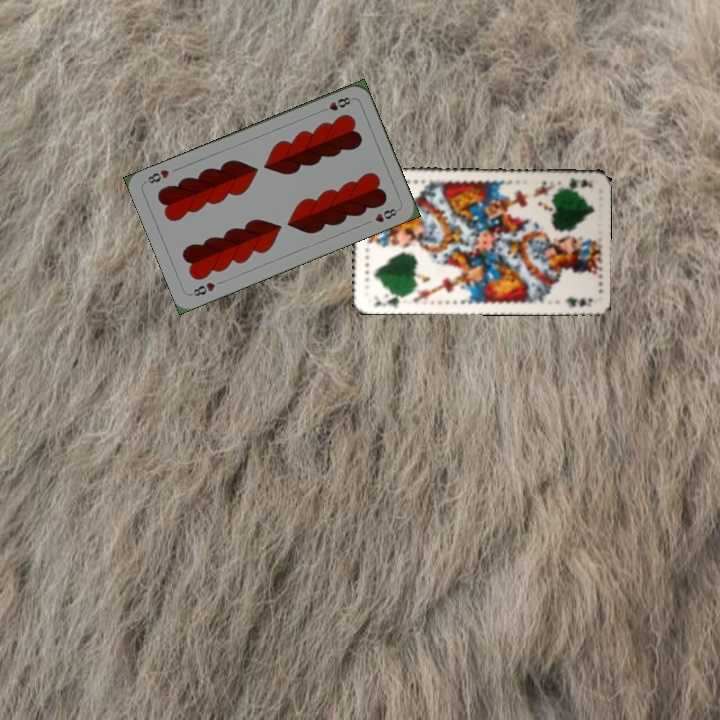GK: (369, 290, 406, 310), (565, 174, 594, 190)
H8: (316, 93, 355, 115), (187, 278, 218, 299)
